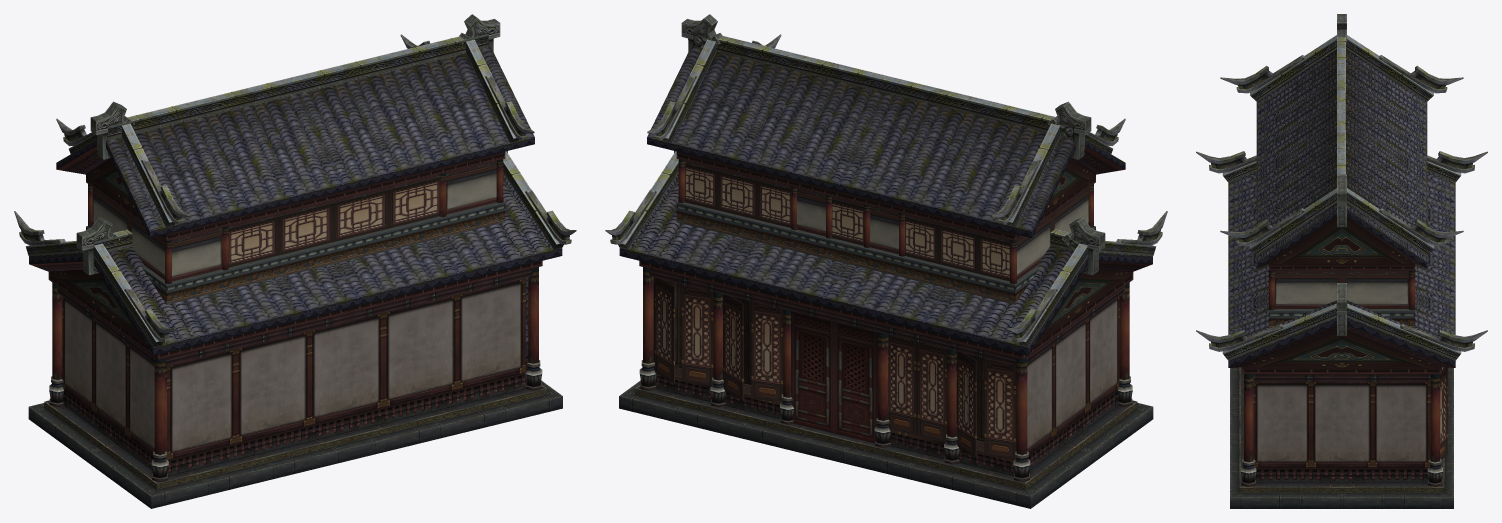
The model's file is HYC_jianzhu_09.FBX.
3 views of the same model, side by side, from view 1: azimuth 30°, elevation 25°; view 2: azimuth 150°, elevation 25°; view 3: azimuth 270°, elevation 25° (orthographic). The views are drawn at different scales.
Visible parts, largest first — view 1: HYC_jianzhu_09; view 2: HYC_jianzhu_09; view 3: HYC_jianzhu_09.
Boxes of the visible parts, bbox=[...] form: HYC_jianzhu_09: bbox=[14, 14, 576, 508]; HYC_jianzhu_09: bbox=[605, 14, 1167, 508]; HYC_jianzhu_09: bbox=[1196, 14, 1487, 508].
Bounding box in the file's own units: 1222 × 957 × 784.
